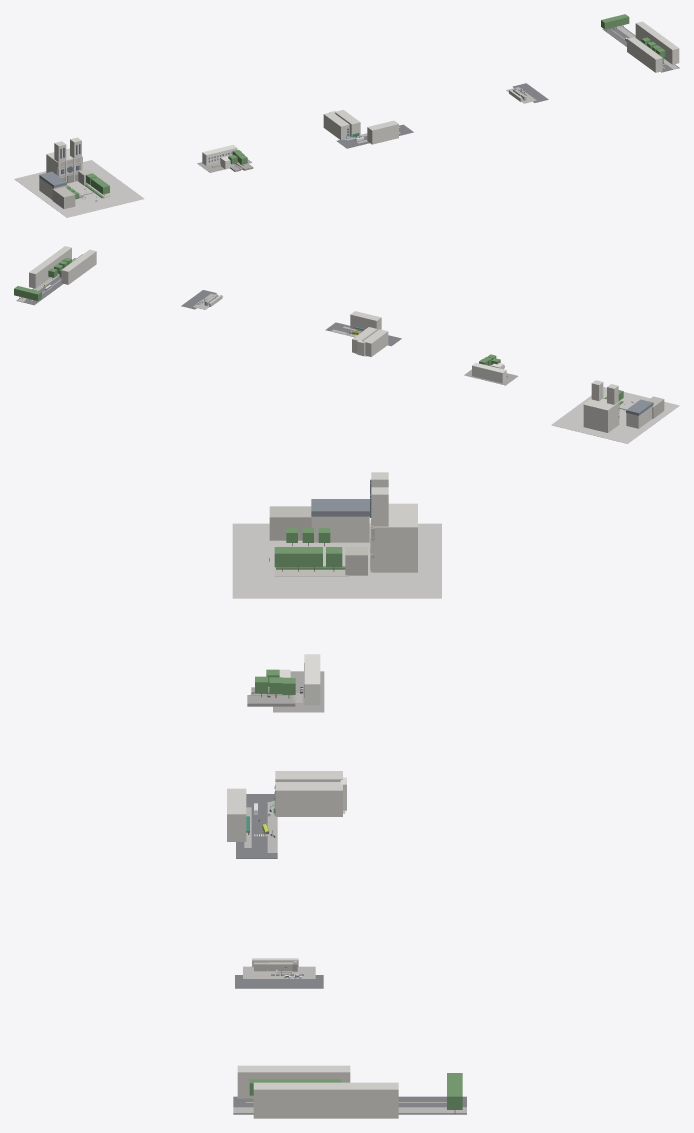
The picture shows the model from 3 angles, top to bottom: view 1: azimuth 30°, elevation 25°; view 2: azimuth 150°, elevation 25°; view 3: azimuth 270°, elevation 25°; orthographic projection. The views are drawn at different scales.
Visible parts, largest first — view 1: S01_ParvisGround, S05_RightBoulevardBldg, S05_LeftBoulevardBldg, S03_CafeBuilding, S06_WestCornerBldg, S02_EspaceMontmartreBldg, S01_LeftBldg2, S01_NotreDame_Main, S06_EastCornerBldg; view 2: S01_ParvisGround, S01_NotreDame_Main, S05_RightBoulevardBldg, S05_LeftBoulevardBldg, S02_EspaceMontmartreBldg, S03_CafeBuilding, S06_WestCornerBldg, S01_LeftBldg1; view 3: S01_ParvisGround, S05_RightBoulevardBldg, S01_NotreDame_Main, S06_EastCornerBldg, S05_LeftBoulevardBldg, S03_Roadway, S01_LeftBldg1, S01_LeftBldg2, S03_CafeBuilding, S01_LeftBldg1_Roof, S05_BoulevardRoad, S04_Roadway.
Part boxes in pixels (x1=…): S01_ParvisGround: x1=14, y1=160, x2=144, y2=217; S05_RightBoulevardBldg: x1=635, y1=21, x2=679, y2=64; S05_LeftBoulevardBldg: x1=627, y1=37, x2=662, y2=72; S03_CafeBuilding: x1=367, y1=120, x2=398, y2=144; S06_WestCornerBldg: x1=323, y1=112, x2=349, y2=140; S02_EspaceMontmartreBldg: x1=202, y1=144, x2=237, y2=165; S01_LeftBldg2: x1=52, y1=187, x2=75, y2=209; S01_NotreDame_Main: x1=46, y1=148, x2=80, y2=177; S06_EastCornerBldg: x1=335, y1=109, x2=360, y2=137; S01_ParvisGround: x1=551, y1=387, x2=679, y2=443; S01_NotreDame_Main: x1=583, y1=398, x2=619, y2=432; S05_RightBoulevardBldg: x1=29, y1=246, x2=71, y2=288; S05_LeftBoulevardBldg: x1=61, y1=249, x2=96, y2=284; S02_EspaceMontmartreBldg: x1=472, y1=362, x2=506, y2=383; S03_CafeBuilding: x1=350, y1=311, x2=381, y2=331; S06_WestCornerBldg: x1=362, y1=329, x2=388, y2=356; S01_LeftBldg1: x1=626, y1=405, x2=653, y2=428; S01_ParvisGround: x1=232, y1=523, x2=441, y2=598; S05_RightBoulevardBldg: x1=253, y1=1082, x2=398, y2=1118; S01_NotreDame_Main: x1=372, y1=503, x2=417, y2=572; S06_EastCornerBldg: x1=275, y1=782, x2=342, y2=816; S05_LeftBoulevardBldg: x1=237, y1=1065, x2=350, y2=1098; S03_Roadway: x1=236, y1=794, x2=277, y2=858; S01_LeftBldg1: x1=311, y1=516, x2=369, y2=542; S01_LeftBldg2: x1=269, y1=506, x2=311, y2=540; S03_CafeBuilding: x1=227, y1=788, x2=246, y2=841; S01_LeftBldg1_Roof: x1=311, y1=499, x2=369, y2=516; S05_BoulevardRoad: x1=233, y1=1096, x2=466, y2=1114; S04_Roadway: x1=235, y1=975, x2=323, y2=988.
Size of the model in its own units: 874 by 53.22 by 149.
